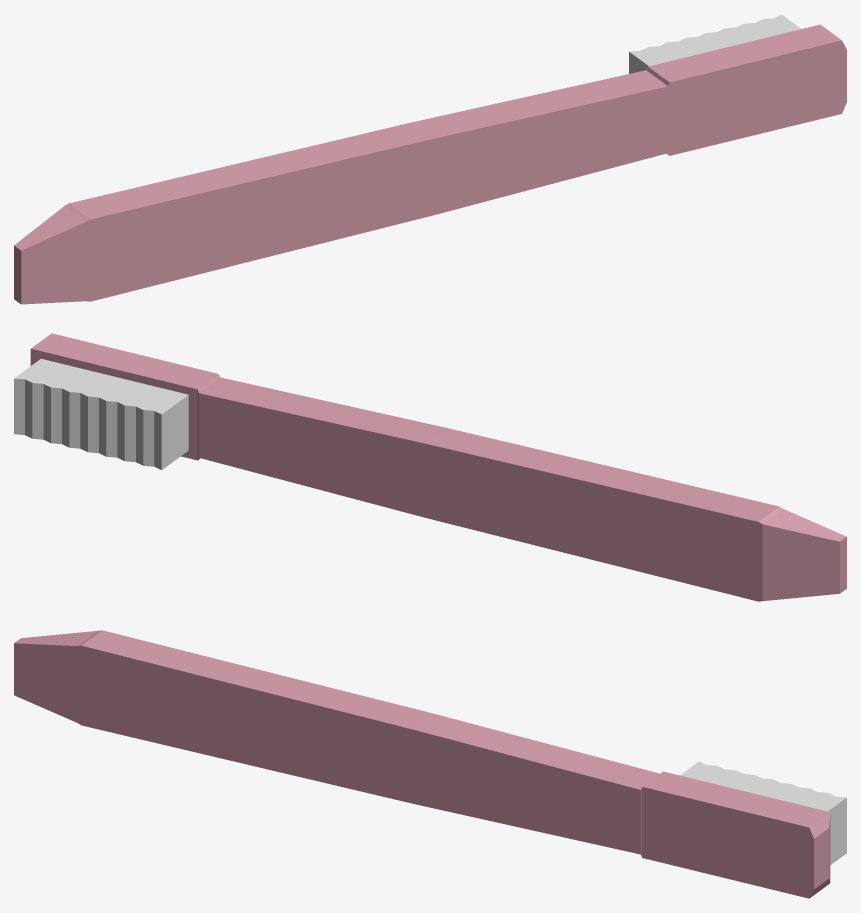
File: Toothbrush.fbx
The picture shows the model from 3 angles, top to bottom: view 1: azimuth 30°, elevation 25°; view 2: azimuth 150°, elevation 25°; view 3: azimuth 330°, elevation 25°; orthographic projection. The views are drawn at different scales.
Parts seen in each view (by area): view 1: Toothbrush; view 2: Toothbrush; view 3: Toothbrush.
Part boxes in pixels (<box>): Toothbrush: <box>14,14,846,304</box>; Toothbrush: <box>14,333,846,601</box>; Toothbrush: <box>14,630,846,898</box>.
Bounding box in the file's own units: 52.42 × 5 × 5.48.
